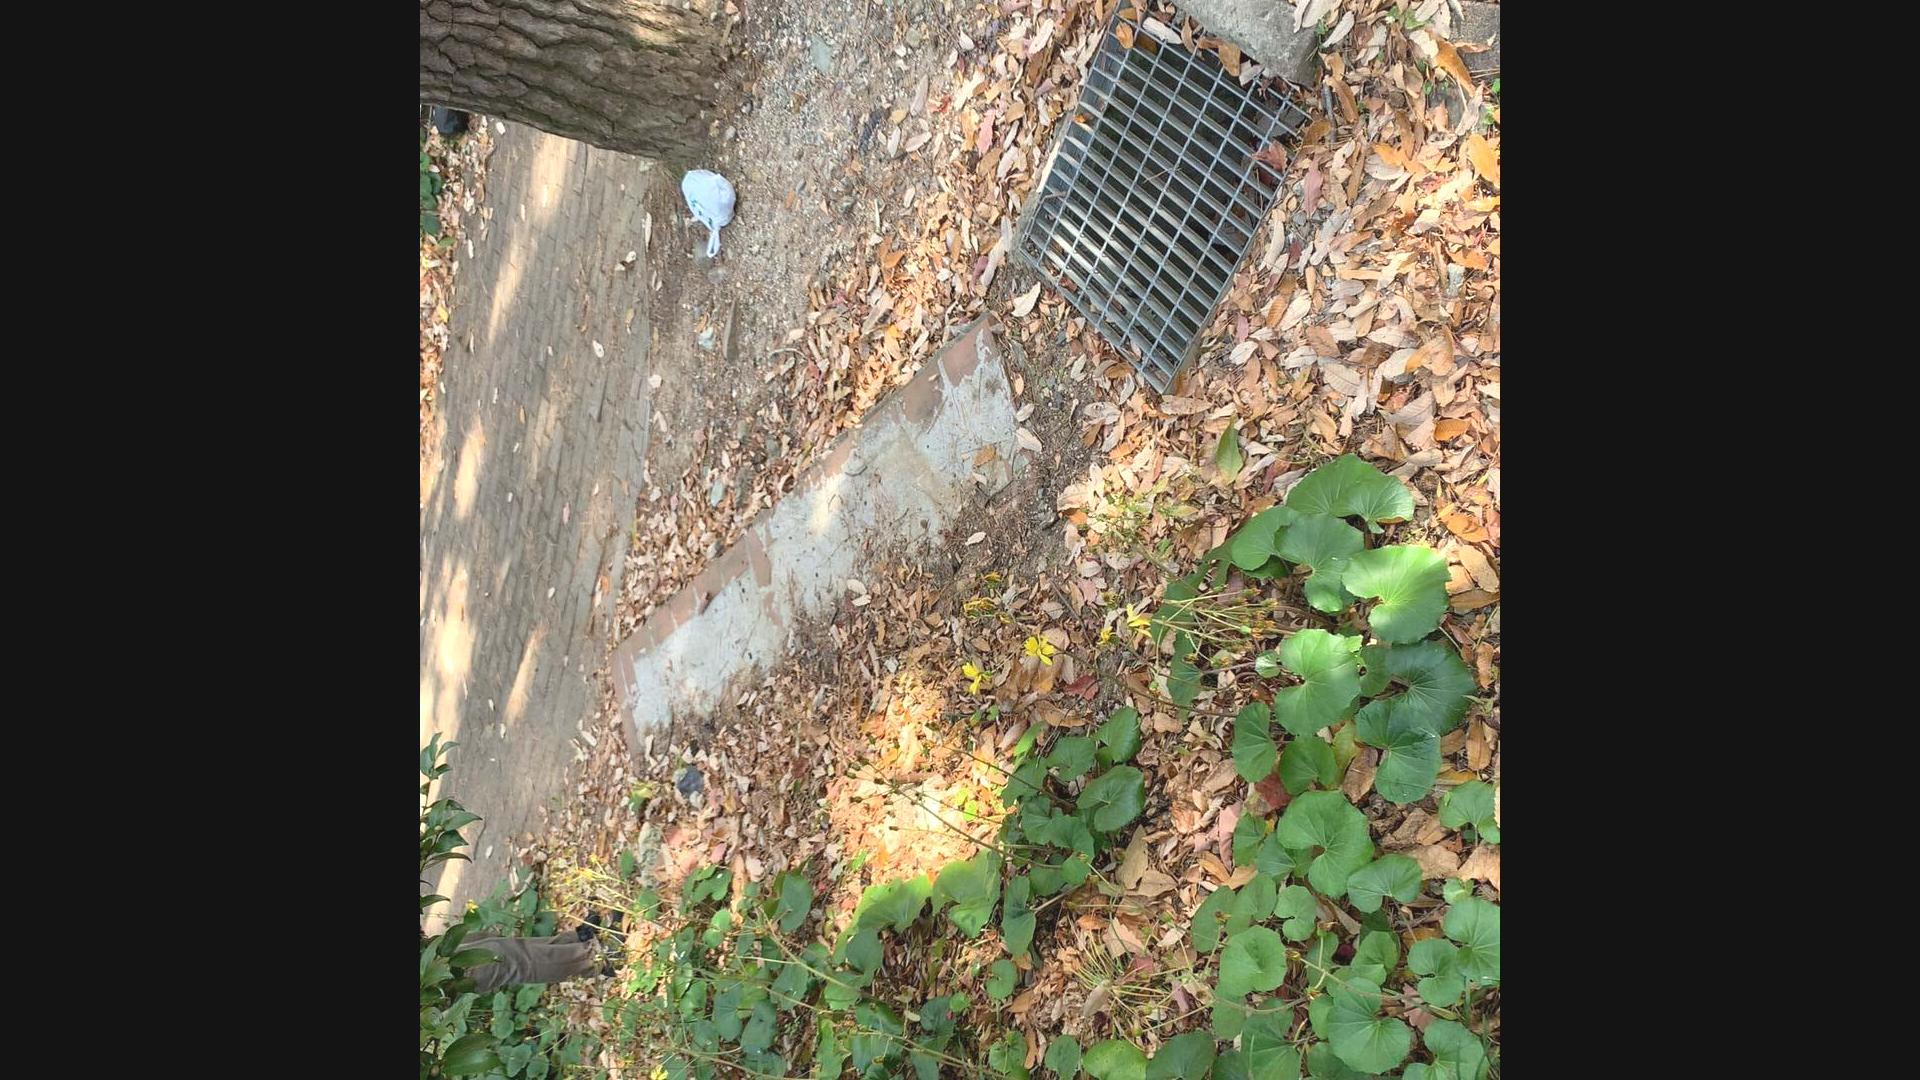white_bag: (678, 165, 744, 263)
